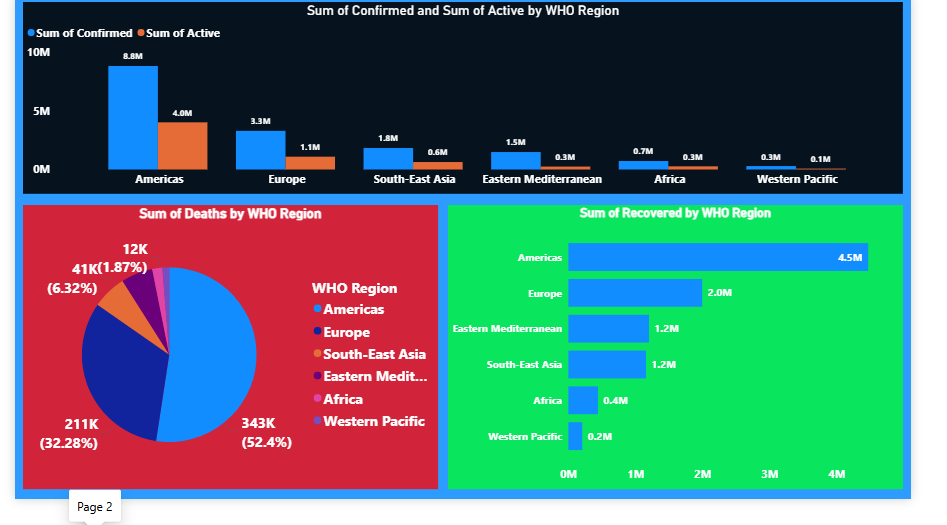

This screenshot's page, from the dashboard's own definition file:
{"tool":"powerbi","page":{"name":"Page 2","canvas":[1280,720],"ordinal":1},"visuals":[{"type":"clusteredColumnChart","fields":{"Y":["Sum(country_wise_latest.Confirmed)","Sum(country_wise_latest.Active)"],"Category":["country_wise_latest.WHO Region"]},"box":[11.4,10,1257.1,274.3],"z":0},{"type":"pieChart","fields":{"Y":["Sum(country_wise_latest.Deaths)"],"Category":["country_wise_latest.WHO Region"]},"box":[11.4,300,592.9,405.7],"z":2000},{"type":"barChart","fields":{"Category":["country_wise_latest.WHO Region"],"Y":["Sum(country_wise_latest.Recovered)"]},"box":[618.6,300,650,405.7],"z":3000}]}

Visuals, with their boxes in screenshot pixels (x1, y1, x2, y2), scaled from the page's 1280x720 canvas onto the 947x525 screenshot:
clusteredColumnChart - Sum(country_wise_latest.Confirmed) x Sum(country_wise_latest.Active): bbox=(8, 7, 938, 207)
pieChart - Sum(country_wise_latest.Deaths) x country_wise_latest.WHO Region: bbox=(8, 219, 447, 515)
barChart - country_wise_latest.WHO Region x Sum(country_wise_latest.Recovered): bbox=(458, 219, 939, 515)
